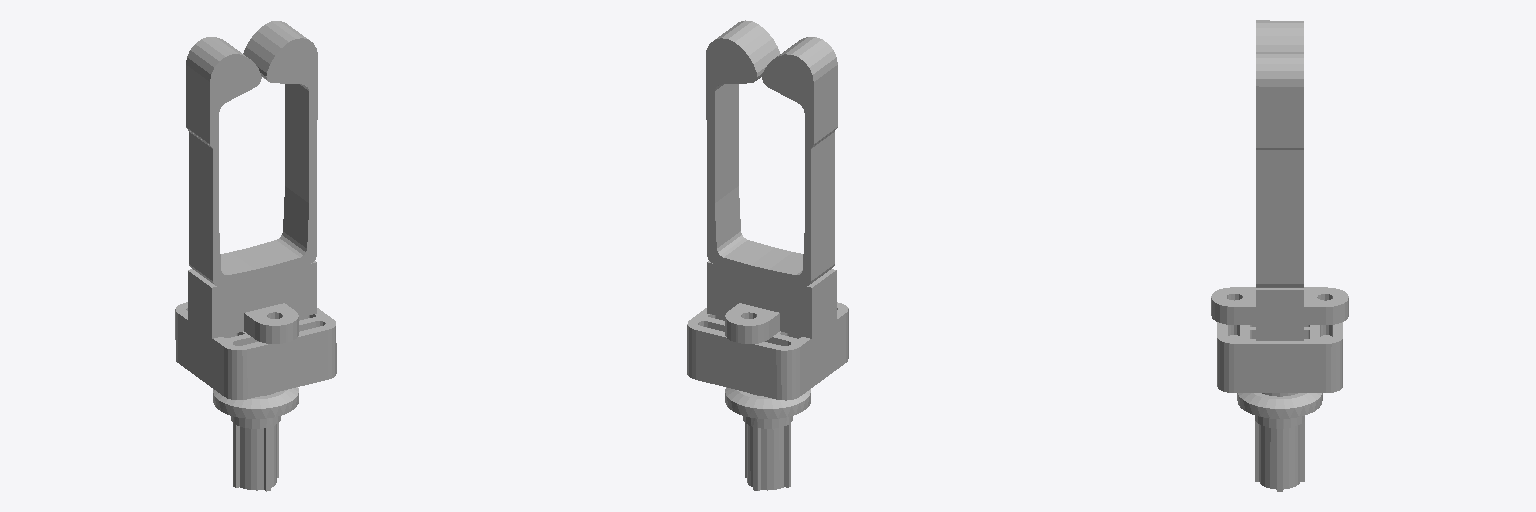
URDF robot description (Fixture):
<?xml version="1.0" encoding="utf-8"?>
<!-- This URDF was automatically created by SolidWorks to URDF Exporter! Originally created by [author] ([email redacted]) 
     Commit Version: 1.5.1-0-g916b5db  Build Version: 1.5.7152.31018
     For more information, please see http://wiki.ros.org/sw_urdf_exporter -->
<robot
  name="Fixture">
  <link
    name="base_link">
    <inertial>
      <origin
        xyz="-0.000425464345337219 2.13595590304362E-05 -0.0299291097869615"
        rpy="3.14 0 0.028" />
      <mass
        value="0.0226146474748986" />
      <inertia
        ixx="9.9989422851318E-06"
        ixy="-1.36421695023417E-21"
        ixz="5.07169828744935E-09"
        iyy="1.08051977380066E-05"
        iyz="4.94759934752478E-21"
        izz="2.55797624820242E-06" />
    </inertial>
    <visual>
      <origin
        xyz="0 0 0.028"
        rpy="3.14 0 0" />
      <geometry>
        <mesh
          filename="package://Fixture/meshes/base_link.STL" />
      </geometry>
      <material
        name="">
        <color
          rgba="0.752941176470588 0.752941176470588 0.752941176470588 1" />
      </material>
    </visual>
    <collision>
      <origin
        xyz="0 0 0"
        rpy="0 0 0" />
      <geometry>
        <mesh
          filename="package://Fixture/meshes/base_link.STL" />
      </geometry>
    </collision>
  </link>
</robot>

--- Facts derived from the render (not from the file) ---
Views: 3 orthographic renders of the robot side by side, from view 1: azimuth 30°, elevation 25°; view 2: azimuth 150°, elevation 25°; view 3: azimuth 270°, elevation 25°.
Model Fixture with 1 links and 0 joints (none), rooted at base_link, posed every joint at zero.
Links seen in each view (by area): view 1: base_link; view 2: base_link; view 3: base_link.
Boxes of the visible links, x1,y1,x2,y2 form: base_link: [175, 21, 336, 491]; base_link: [687, 20, 848, 490]; base_link: [1211, 20, 1348, 491].
Size in the robot's own frame: 0.0308 by 0.0328 by 0.1158 metres.
Meshes: 1 distinct files referenced, 1 mesh visuals loaded (1 binary STL).